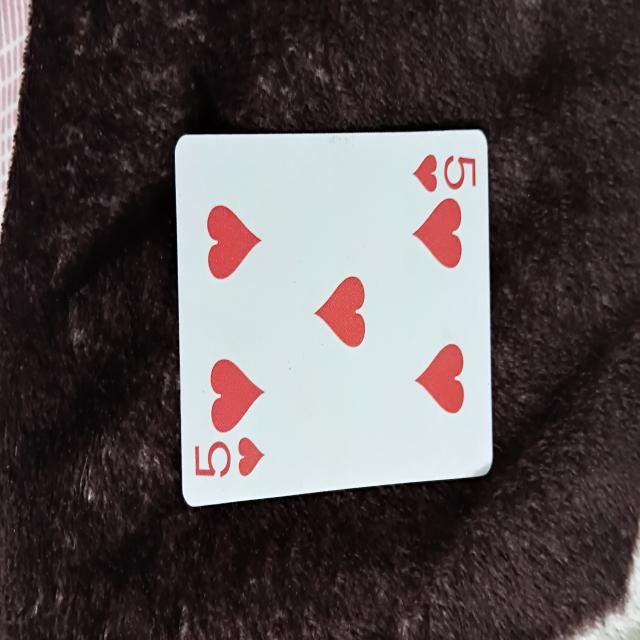5H: (176, 141, 497, 479)
